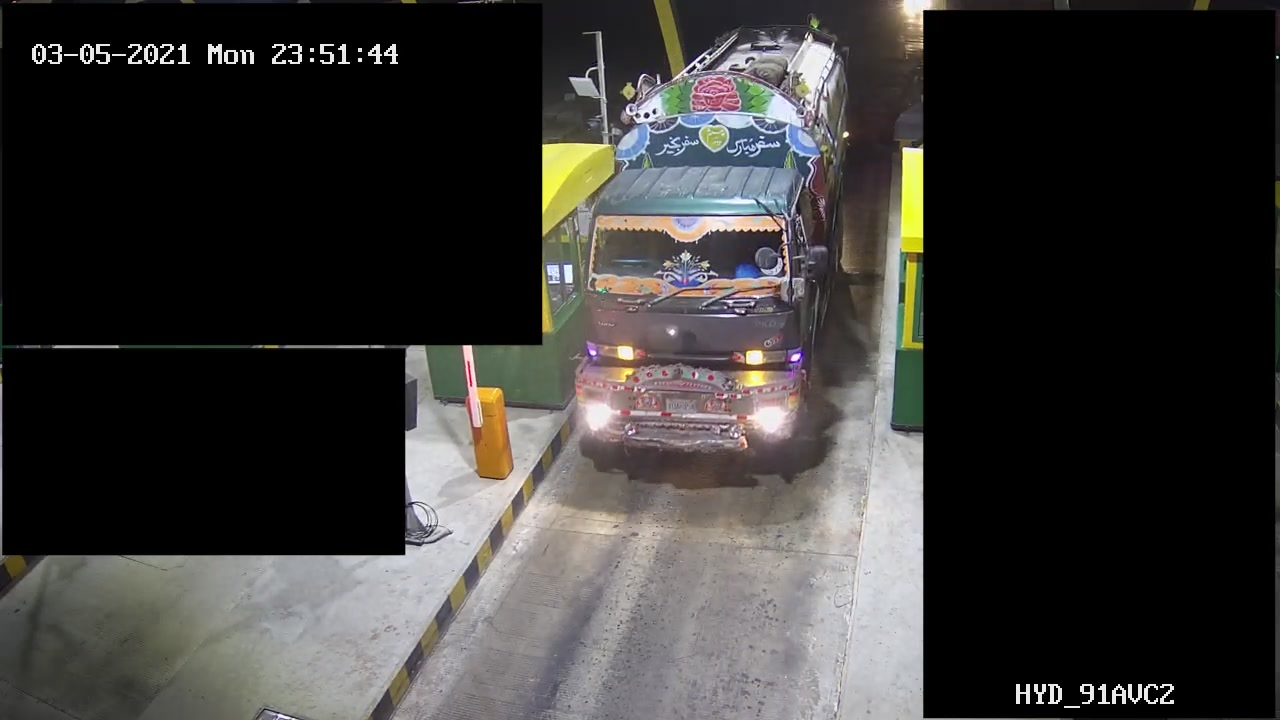F6: (568, 27, 858, 486)
